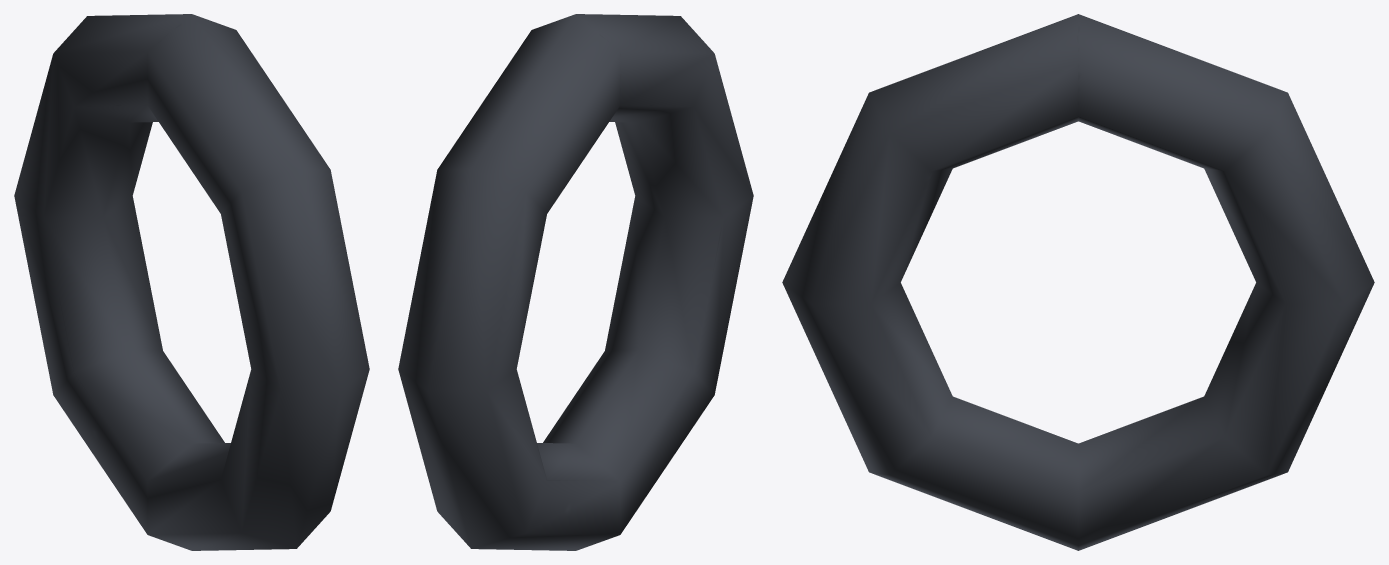
Rendered from trapdoor_handle.obj.
3 views of the same model, side by side, from view 1: azimuth 30°, elevation 25°; view 2: azimuth 150°, elevation 25°; view 3: azimuth 270°, elevation 25° (orthographic).
Parts seen in each view (by area): view 1: trapdoor_handle_Torus.001; view 2: trapdoor_handle_Torus.001; view 3: trapdoor_handle_Torus.001.
Part boxes in pixels (x1,y1,x2,y2): trapdoor_handle_Torus.001: [14, 14, 369, 550]; trapdoor_handle_Torus.001: [398, 14, 753, 550]; trapdoor_handle_Torus.001: [782, 14, 1374, 550].
Bounding box in the file's own units: 0.0329 × 0.1901 × 0.1901.
Materials: 1 (1 with a texture image).
